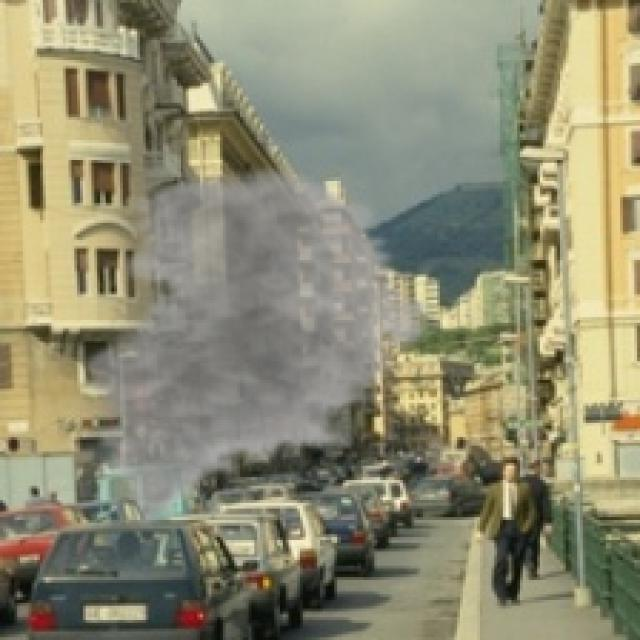smoke: (71, 163, 440, 531)
